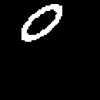chain: (22, 4, 61, 40)
